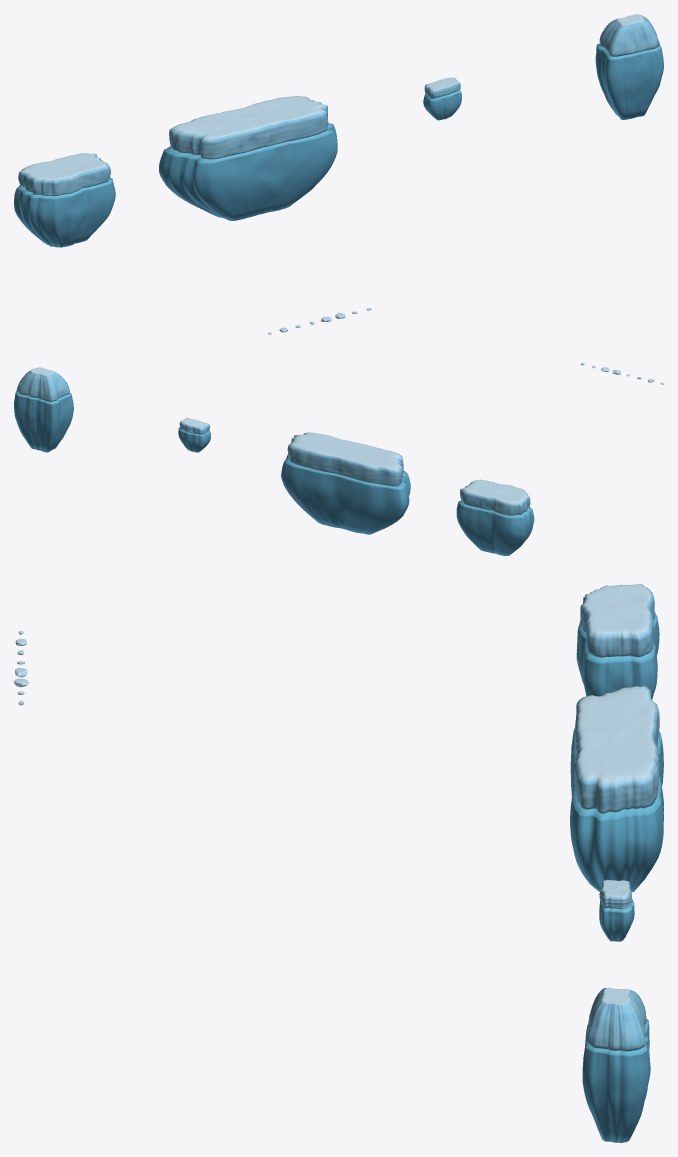
File: ice.glb
The picture shows the model from 3 angles, top to bottom: view 1: azimuth 30°, elevation 25°; view 2: azimuth 150°, elevation 25°; view 3: azimuth 270°, elevation 25°; orthographic projection. The views are drawn at different scales.
Visible parts, largest first — view 1: BergTabularB, BergTabularA, BergDome, BergBroken; view 2: BergTabularB, BergTabularA, BergDome, BergBroken; view 3: BergTabularB, BergDome, BergTabularA, BergBroken.
Boxes of the visible parts, x1,y1,x2,y2 form: BergTabularB: (159, 96, 337, 220); BergTabularA: (14, 153, 115, 247); BergDome: (595, 14, 663, 119); BergBroken: (423, 77, 461, 120); BergTabularB: (281, 432, 410, 534); BergTabularA: (456, 479, 534, 555); BergDome: (14, 367, 73, 452); BergBroken: (178, 418, 210, 452); BergTabularB: (570, 686, 663, 892); BergDome: (582, 987, 650, 1142); BergTabularA: (576, 584, 659, 699); BergBroken: (599, 879, 634, 941).
Bounding box in the file's own units: 541 × 81.95 × 328.
